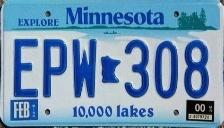0: (153, 39, 179, 100)
3: (123, 37, 151, 98)
8: (182, 37, 211, 98)
E: (13, 37, 39, 98)
P: (41, 37, 69, 99)
W: (70, 37, 99, 98)
